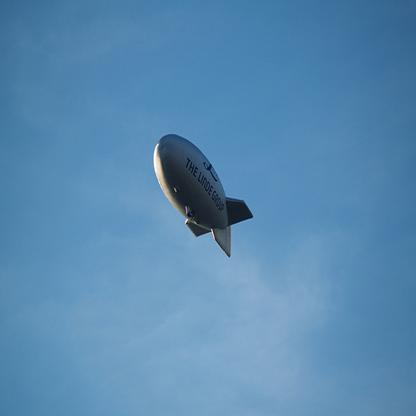Airship: (149, 131, 261, 262)
